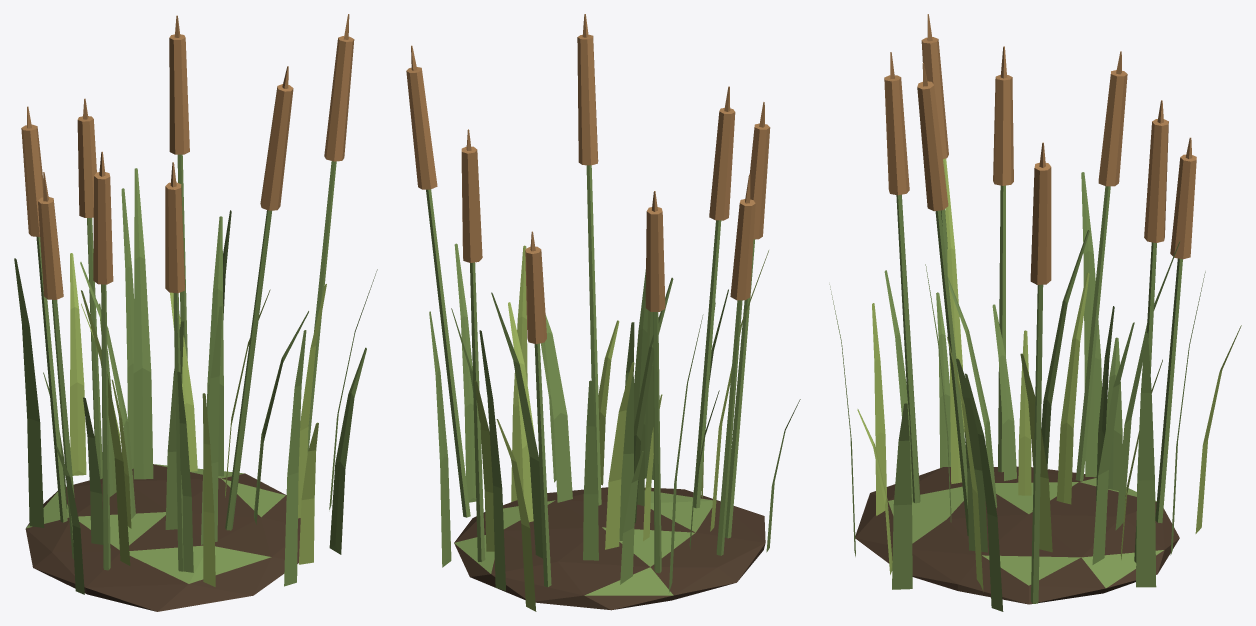
Rendered from reed_bed.glb.
3 renders of one model, left to right at view 1: azimuth 30°, elevation 25°; view 2: azimuth 150°, elevation 25°; view 3: azimuth 270°, elevation 25°, orthographic. The views are drawn at different scales.
Parts seen in each view (by area): view 1: reed_bed.001; view 2: reed_bed.001; view 3: reed_bed.001.
Boxes of the visible parts, x1=… form: reed_bed.001: x1=14, y1=14, x2=377, y2=611; reed_bed.001: x1=406, y1=14, x2=800, y2=611; reed_bed.001: x1=829, y1=14, x2=1241, y2=611.
Bounding box in the file's own units: 1.15 × 1.55 × 1.14.
